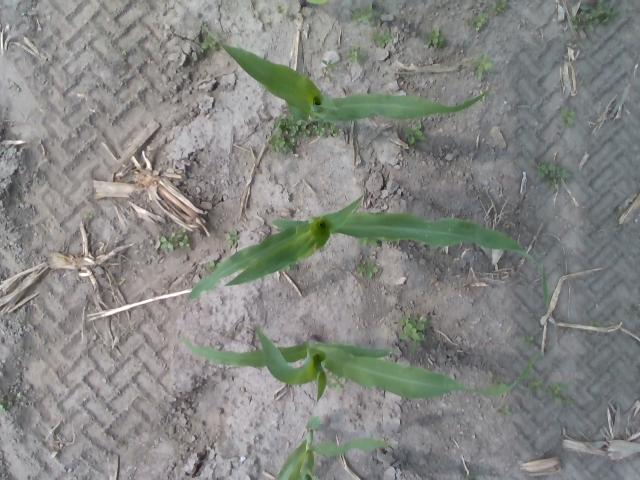Maize: (191, 195, 548, 305), (198, 23, 488, 120), (182, 326, 538, 402), (274, 415, 399, 480), (297, 0, 327, 8)
Weeds: (570, 0, 618, 31), (267, 114, 300, 156), (398, 314, 430, 350), (536, 162, 570, 187), (298, 119, 341, 138), (160, 228, 190, 252), (546, 380, 574, 404), (402, 122, 425, 145), (471, 52, 492, 77), (424, 26, 447, 48), (350, 3, 374, 24), (324, 370, 348, 390), (372, 27, 393, 48), (198, 34, 218, 55), (356, 260, 378, 278), (468, 12, 486, 31), (487, 370, 506, 388), (344, 44, 363, 62), (560, 106, 576, 127), (224, 228, 238, 248), (528, 378, 544, 394), (203, 261, 221, 274), (493, 0, 507, 16), (322, 58, 338, 71), (358, 238, 378, 248), (499, 404, 512, 417), (520, 334, 534, 346), (0, 396, 8, 414), (285, 262, 299, 270), (588, 320, 600, 328), (277, 5, 286, 14), (84, 212, 94, 218)
